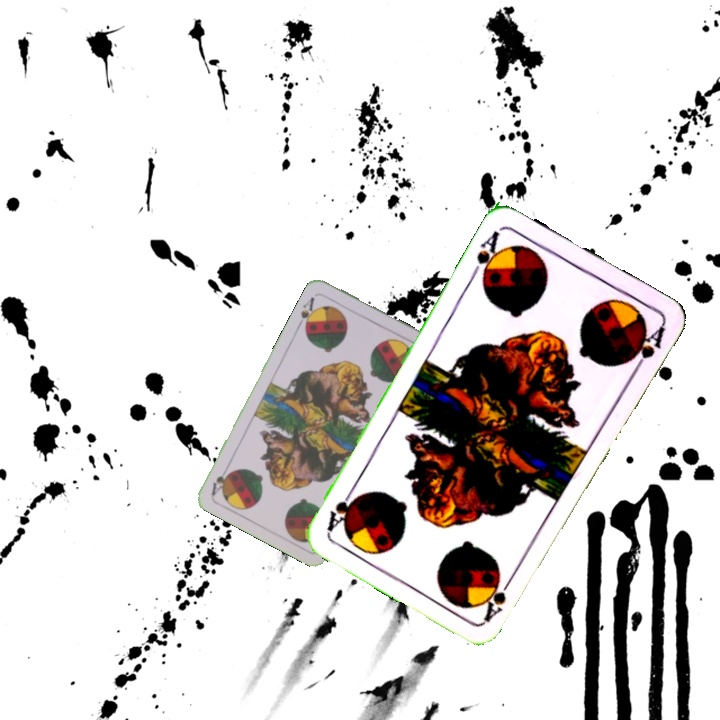SA: (467, 226, 505, 285), (479, 570, 517, 624), (294, 293, 320, 332)
